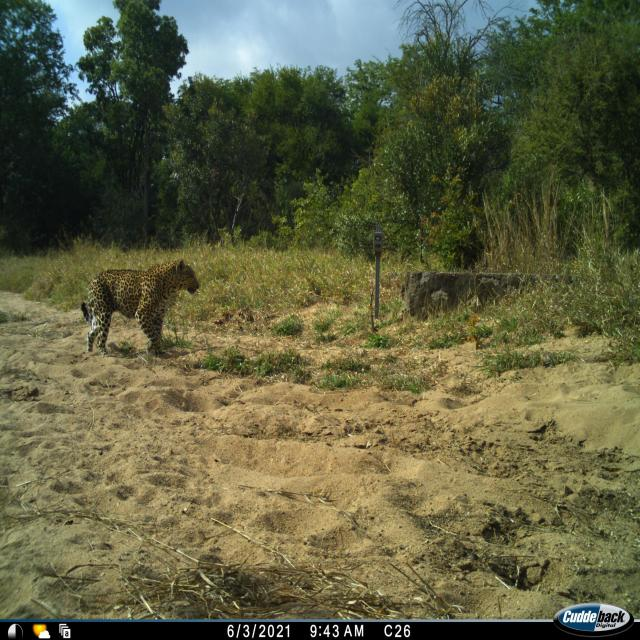Leopard: (79, 262, 195, 364)
